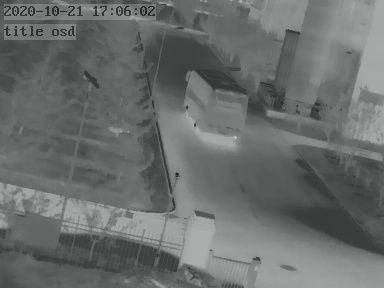vehicle: (184, 69, 253, 141)
